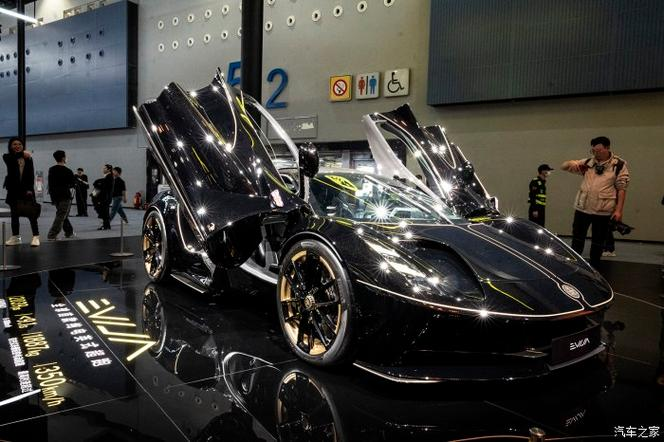汽车: (123, 72, 621, 385)
